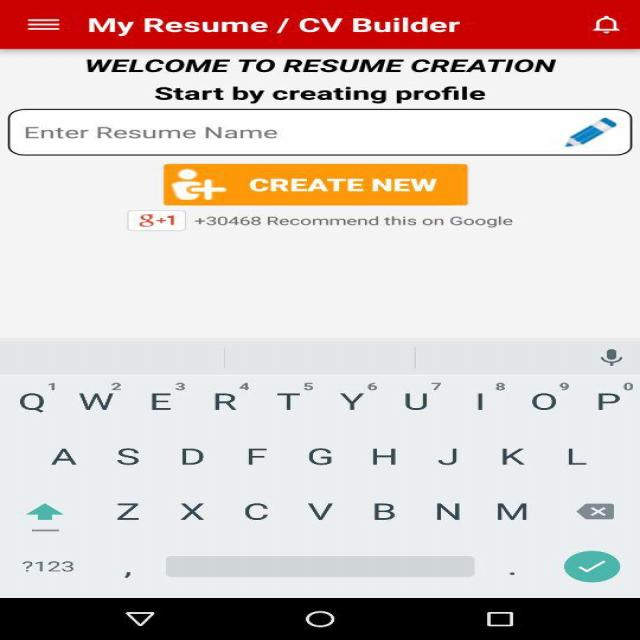button: (85, 153, 529, 260)
text: (8, 341, 640, 608), (53, 49, 600, 117)
